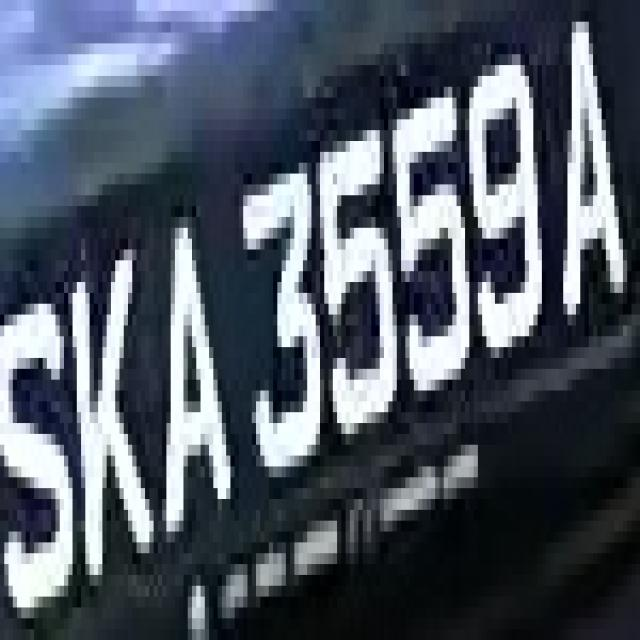3: (226, 108, 320, 510)
5: (380, 33, 469, 423), (303, 119, 401, 445)
9: (439, 54, 542, 402)
A: (145, 195, 239, 575), (542, 44, 640, 347)
K: (60, 206, 149, 597)
S: (0, 4, 1, 11)
